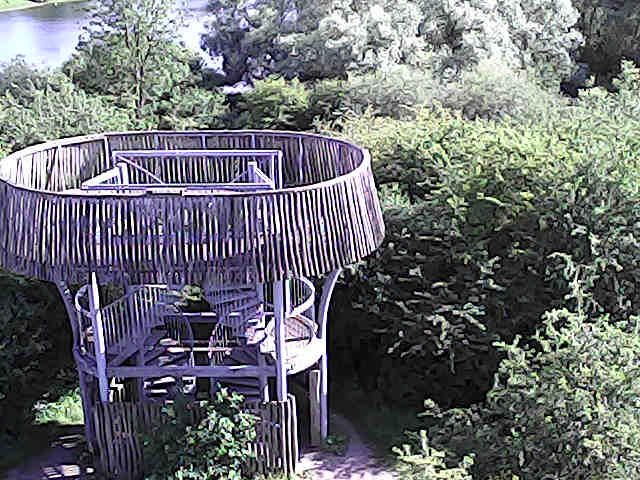tower: (0, 131, 383, 477)
